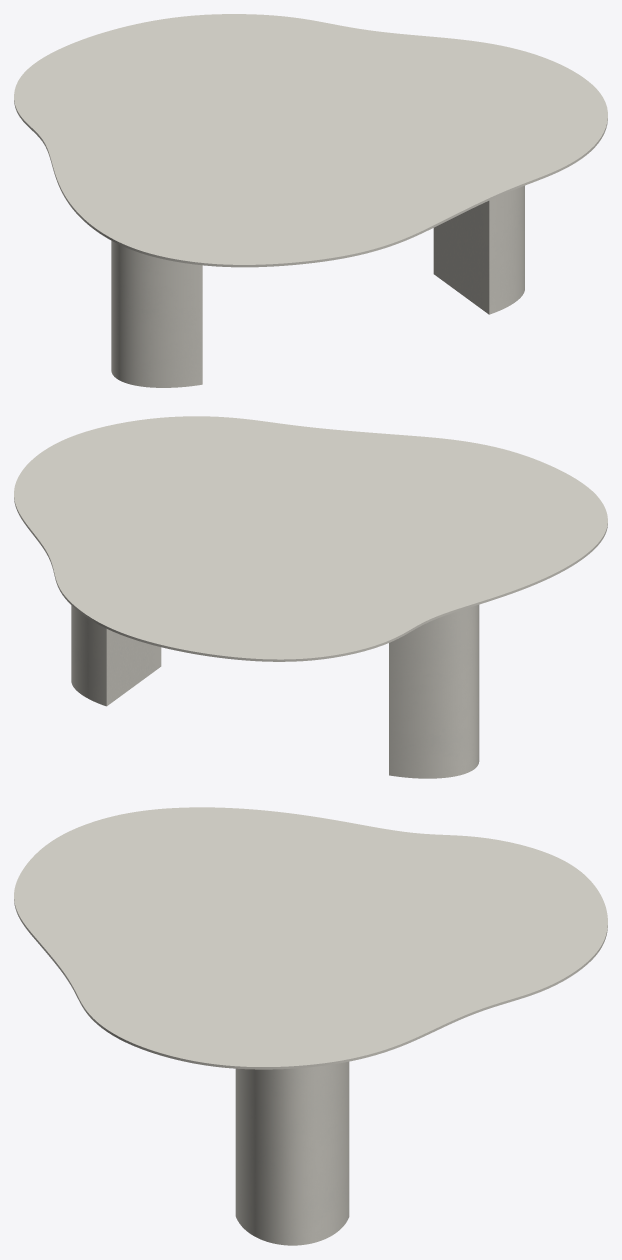
File: pale_topone_facet_hillside.glb
The picture shows the model from 3 angles, top to bottom: view 1: azimuth 30°, elevation 25°; view 2: azimuth 150°, elevation 25°; view 3: azimuth 270°, elevation 25°; orthographic projection. The views are drawn at different scales.
Visible parts, largest first — view 1: facet_topone, hillside; view 2: facet_topone, hillside; view 3: facet_topone, hillside.
Part boxes in pixels (x1=…): facet_topone: x1=14, y1=14, x2=607, y2=267; hillside: x1=111, y1=185, x2=524, y2=387; facet_topone: x1=14, y1=416, x2=607, y2=661; hillside: x1=71, y1=605, x2=479, y2=778; facet_topone: x1=14, y1=807, x2=607, y2=1069; hillside: x1=235, y1=1061, x2=349, y2=1245.
Bounding box in the file's own units: 6.83 × 2.5 × 6.6.
Materials: 1 (1 with a texture image).
